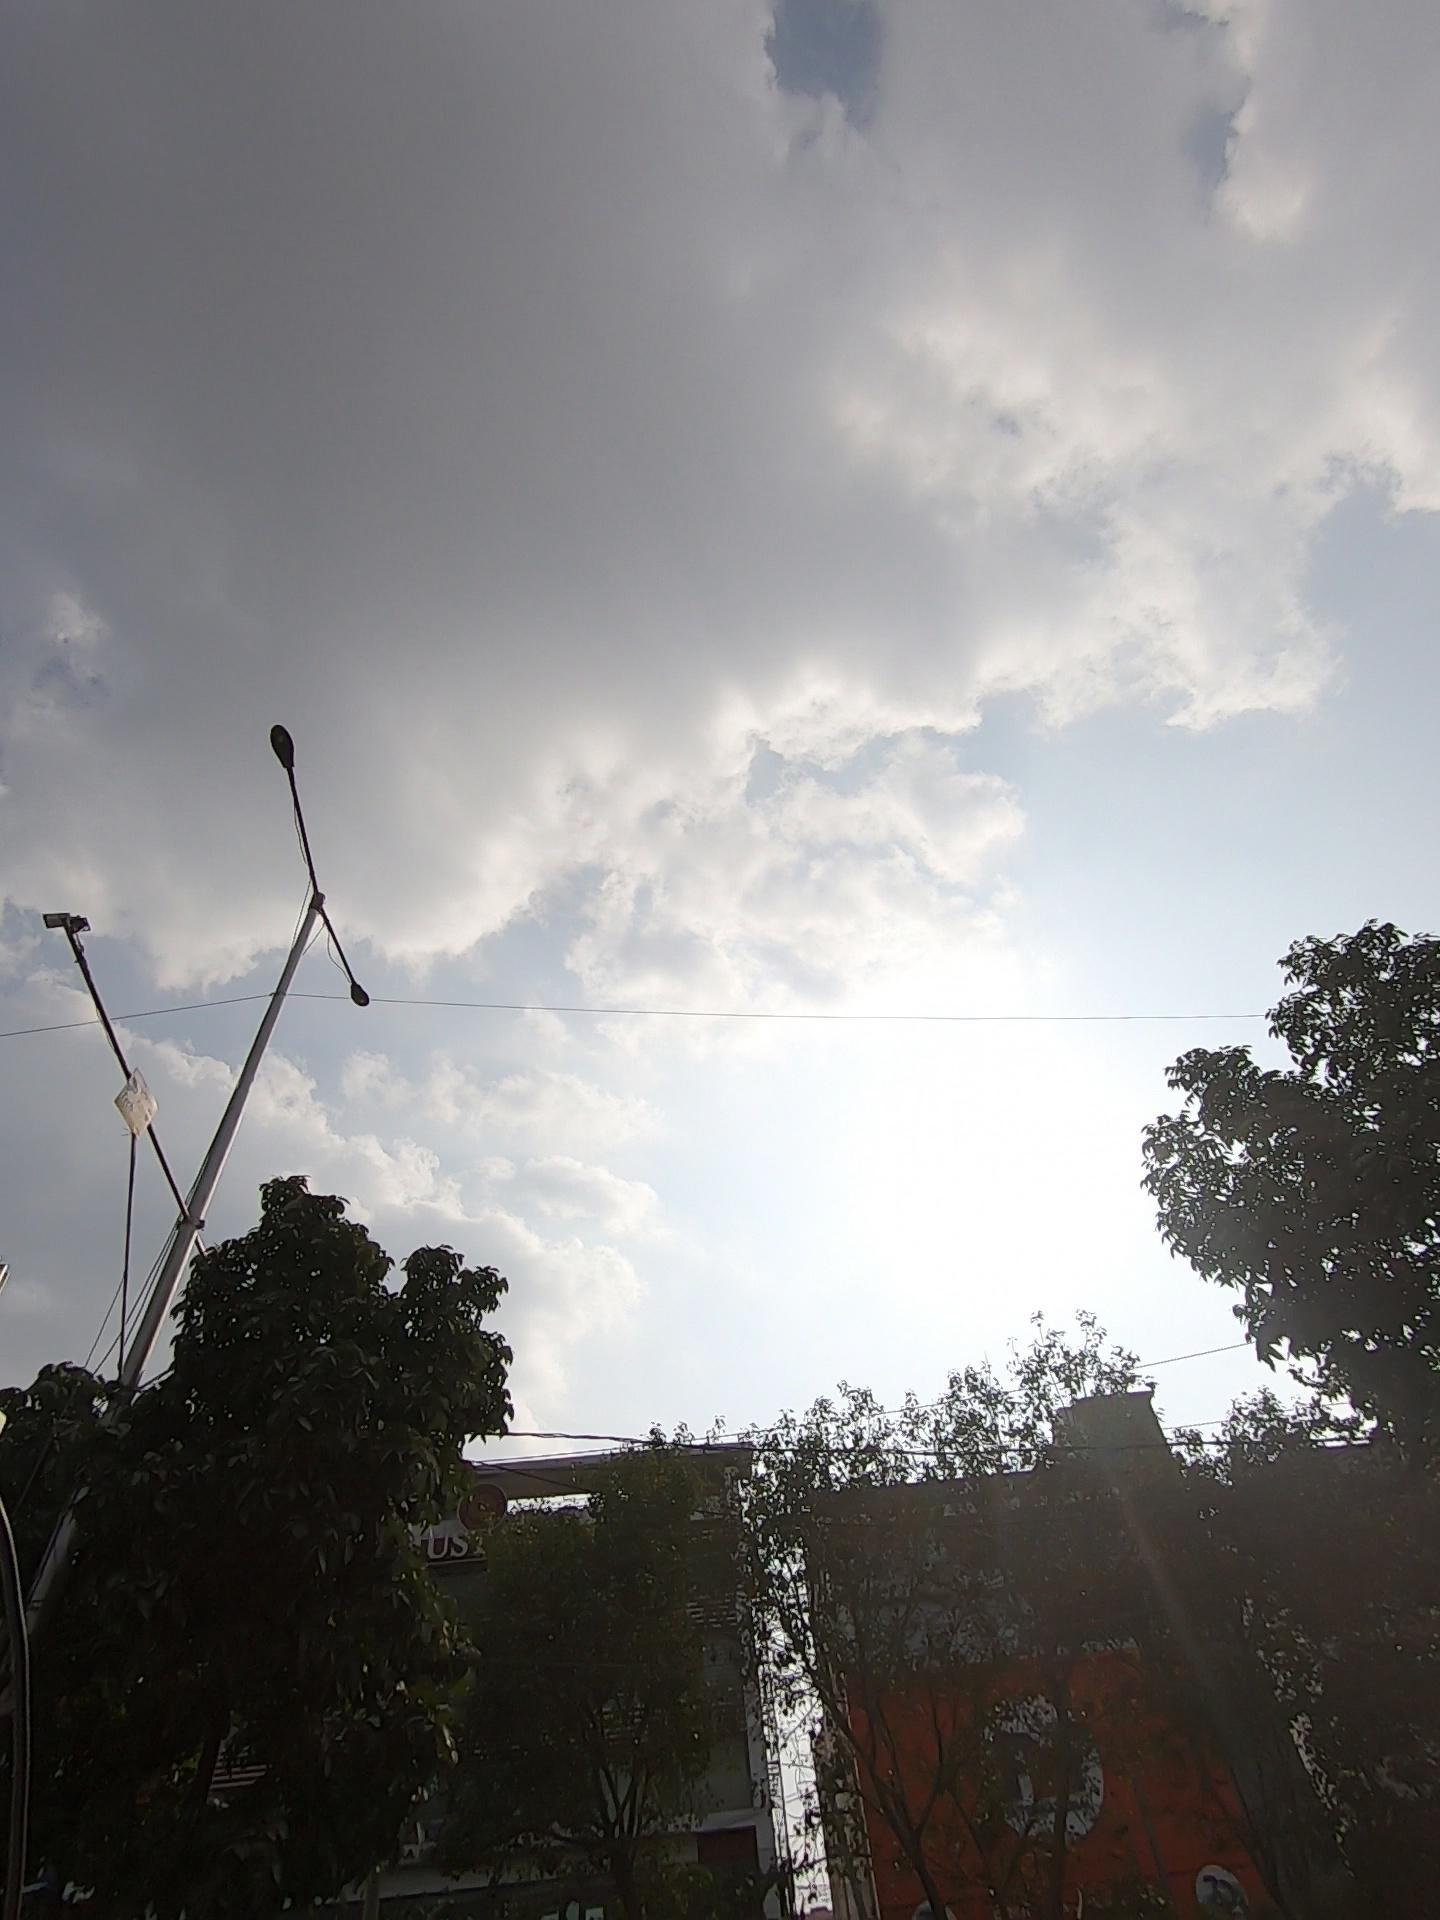off: (141, 615, 436, 1072)
